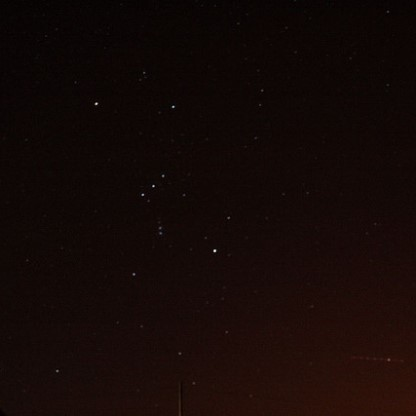Orion: (120, 264, 144, 287), (84, 92, 107, 113), (206, 239, 225, 264), (163, 99, 182, 117), (132, 189, 148, 204), (145, 180, 159, 196), (159, 171, 171, 185)
